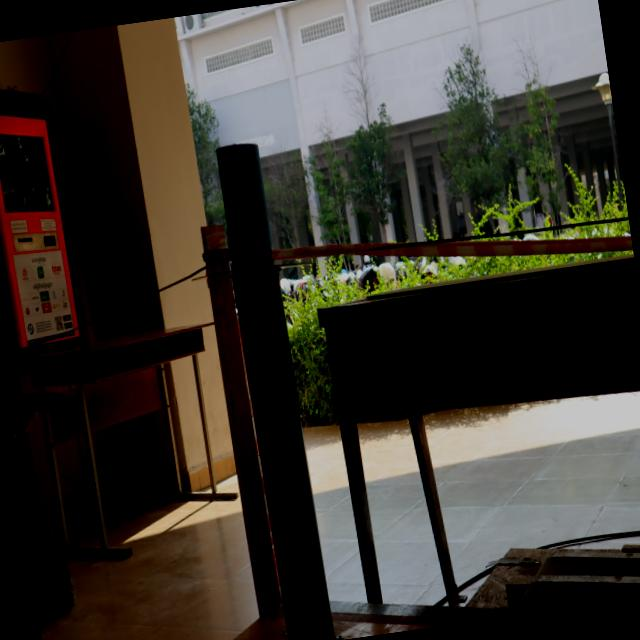pole: (180, 127, 308, 376)
